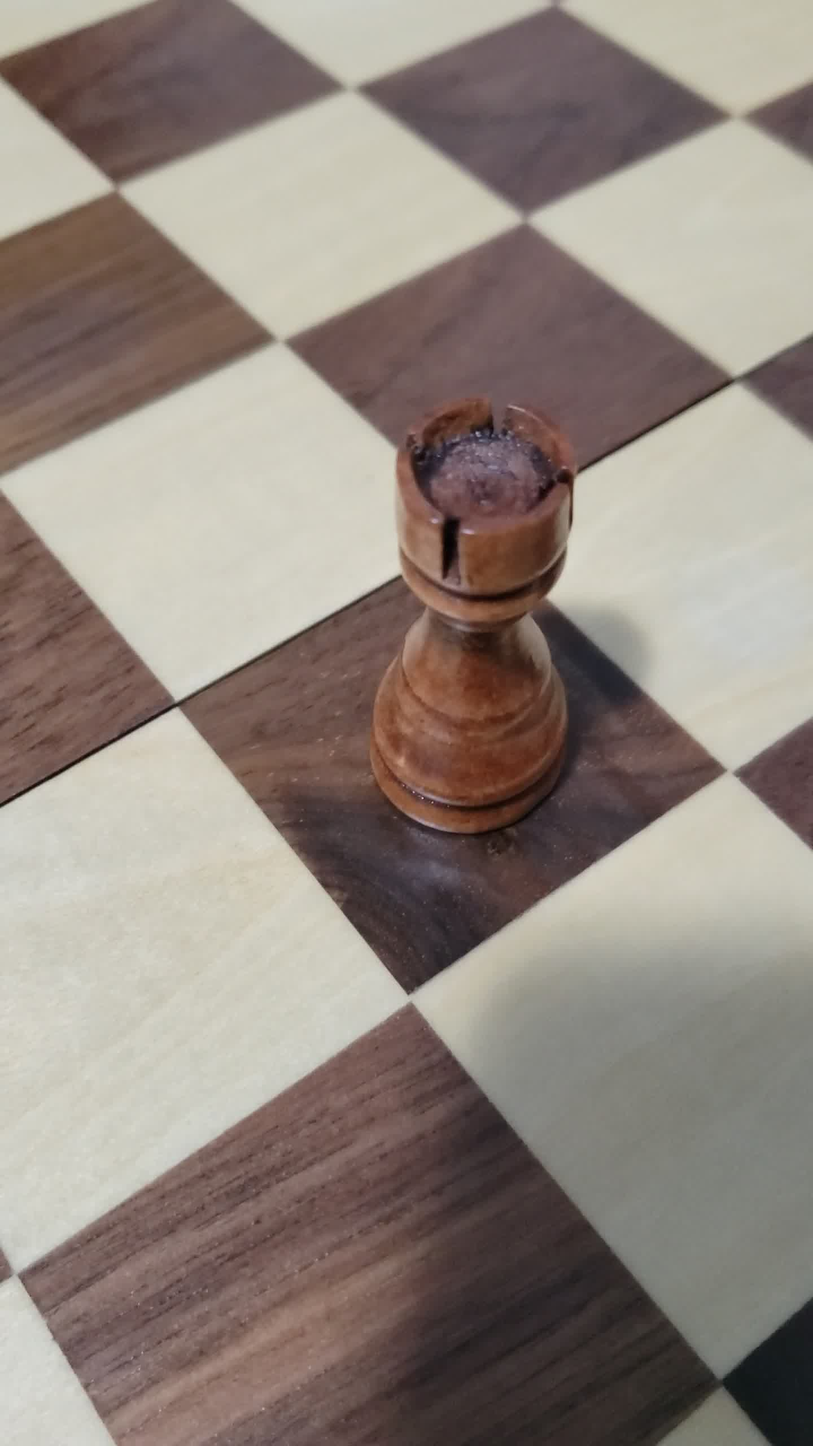black-rook: (325, 371, 613, 852)
